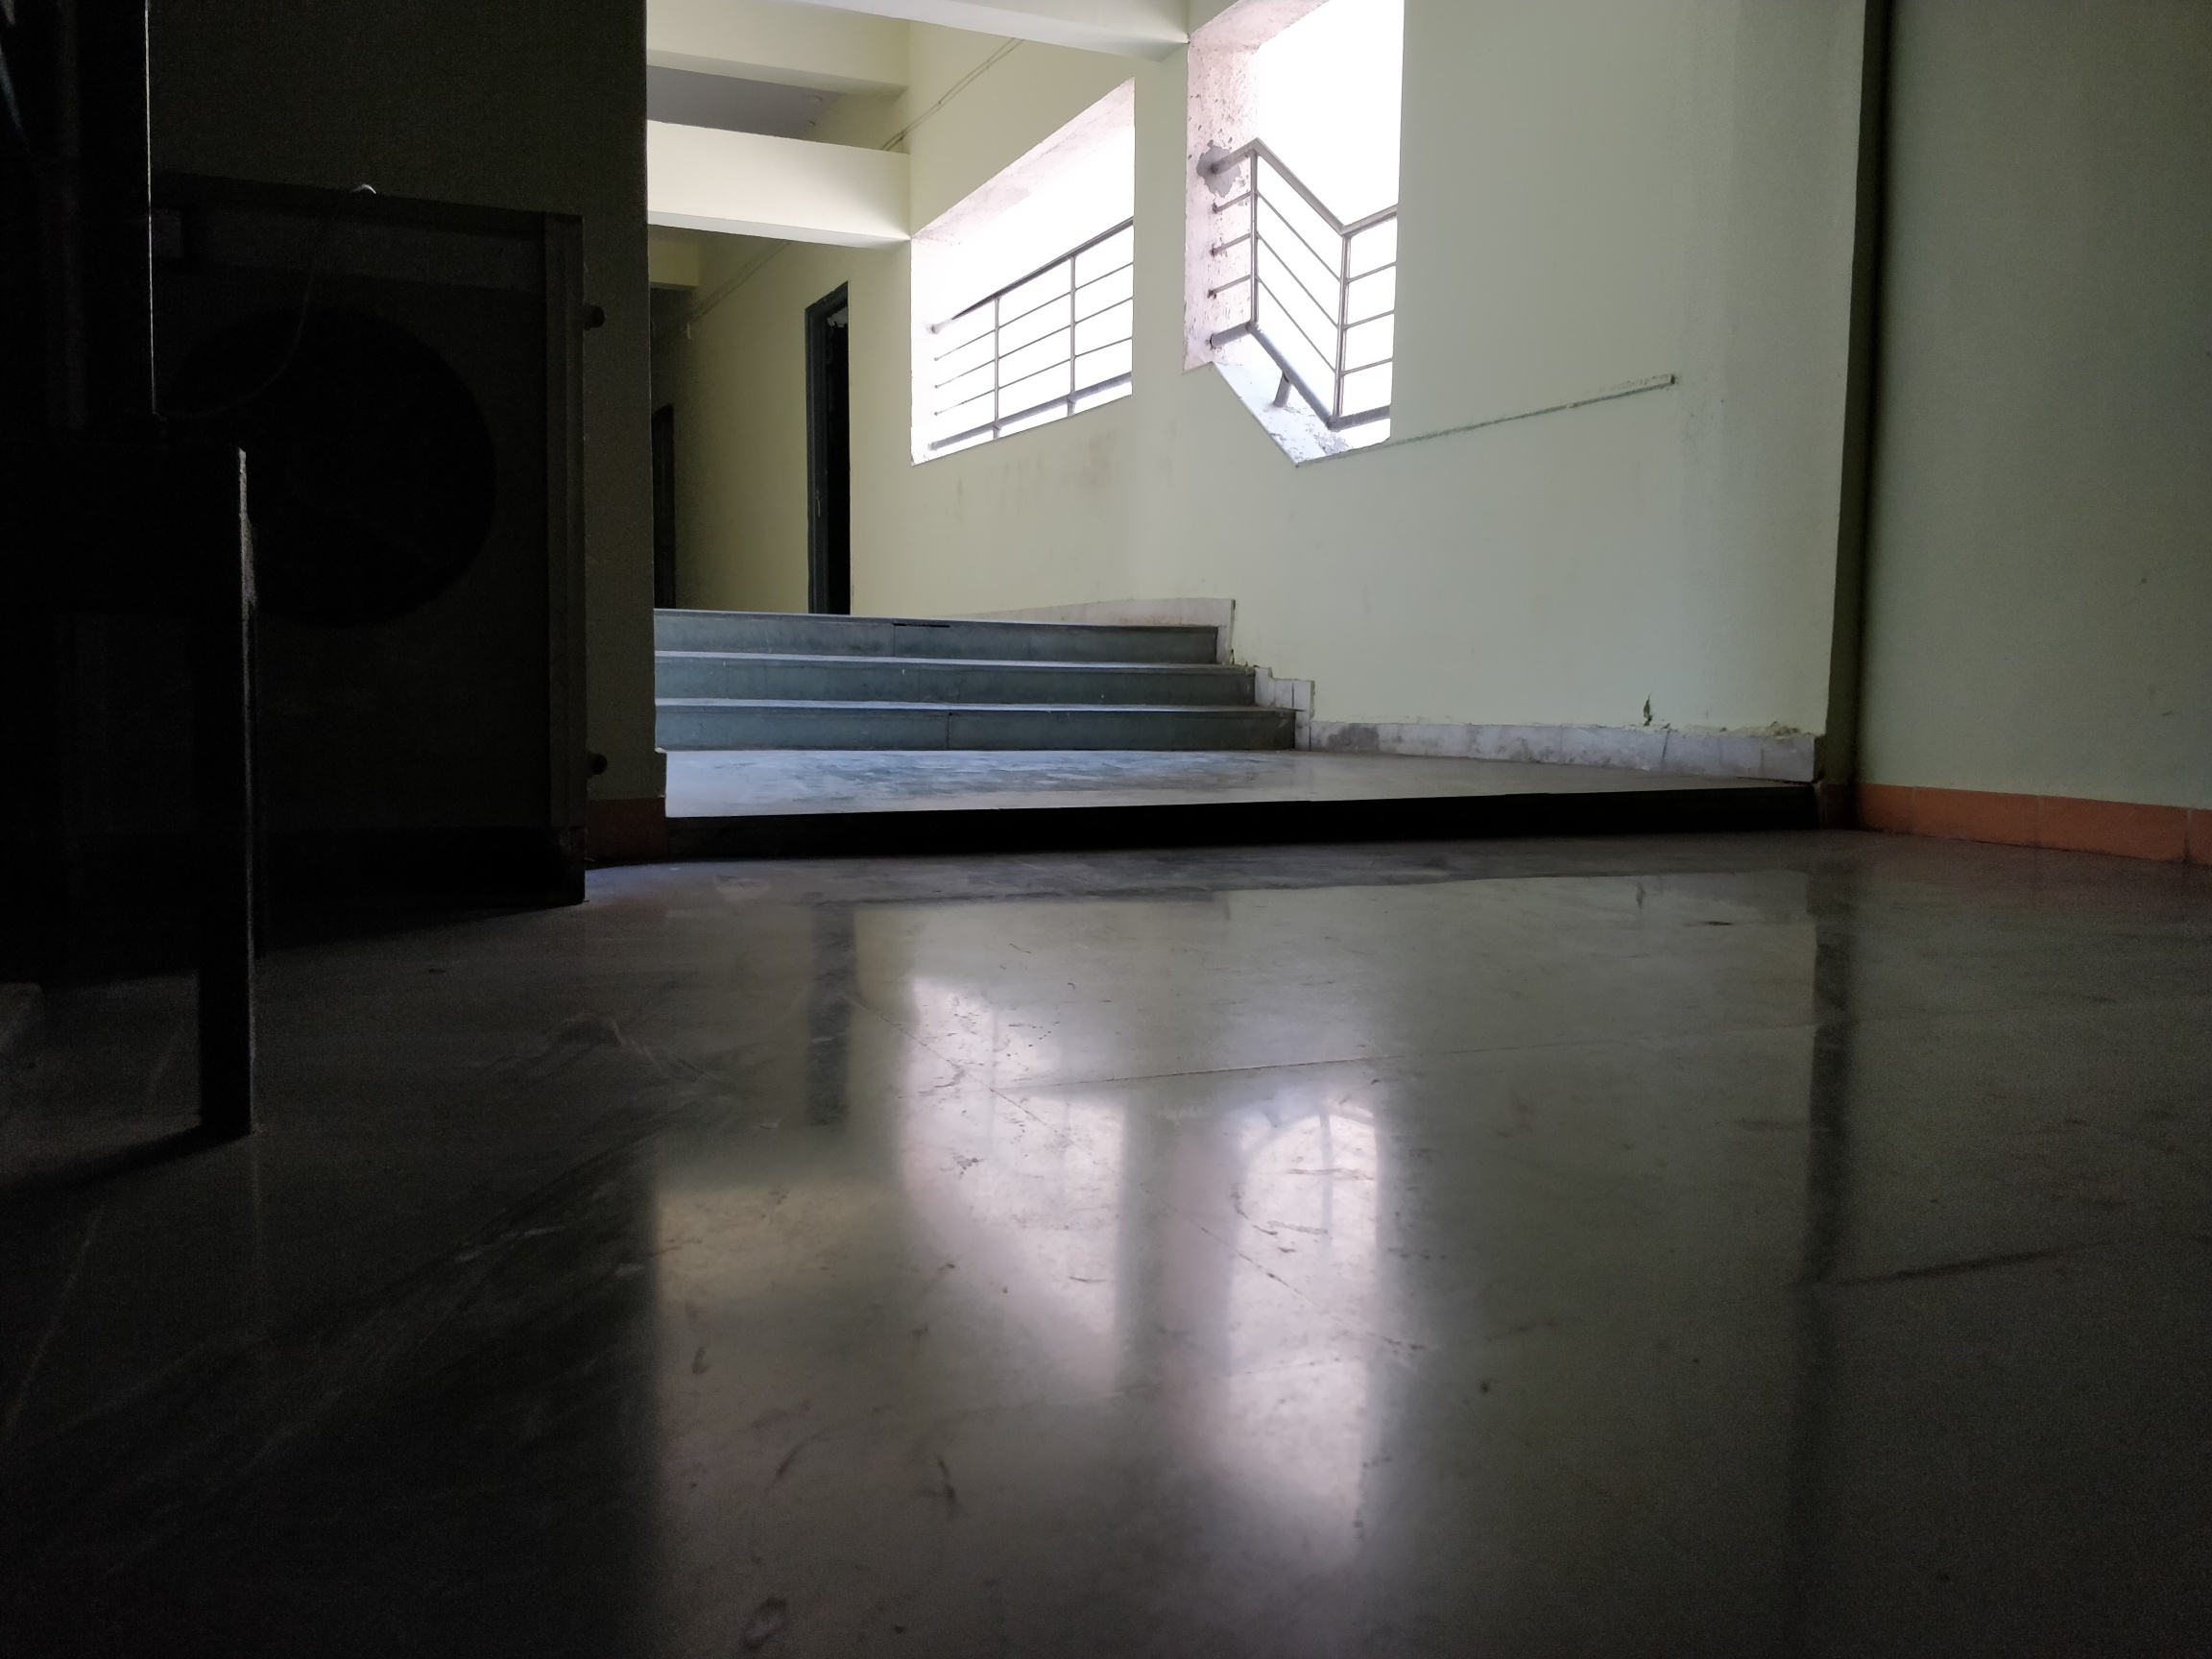stairs_up: (650, 598, 1291, 737)
